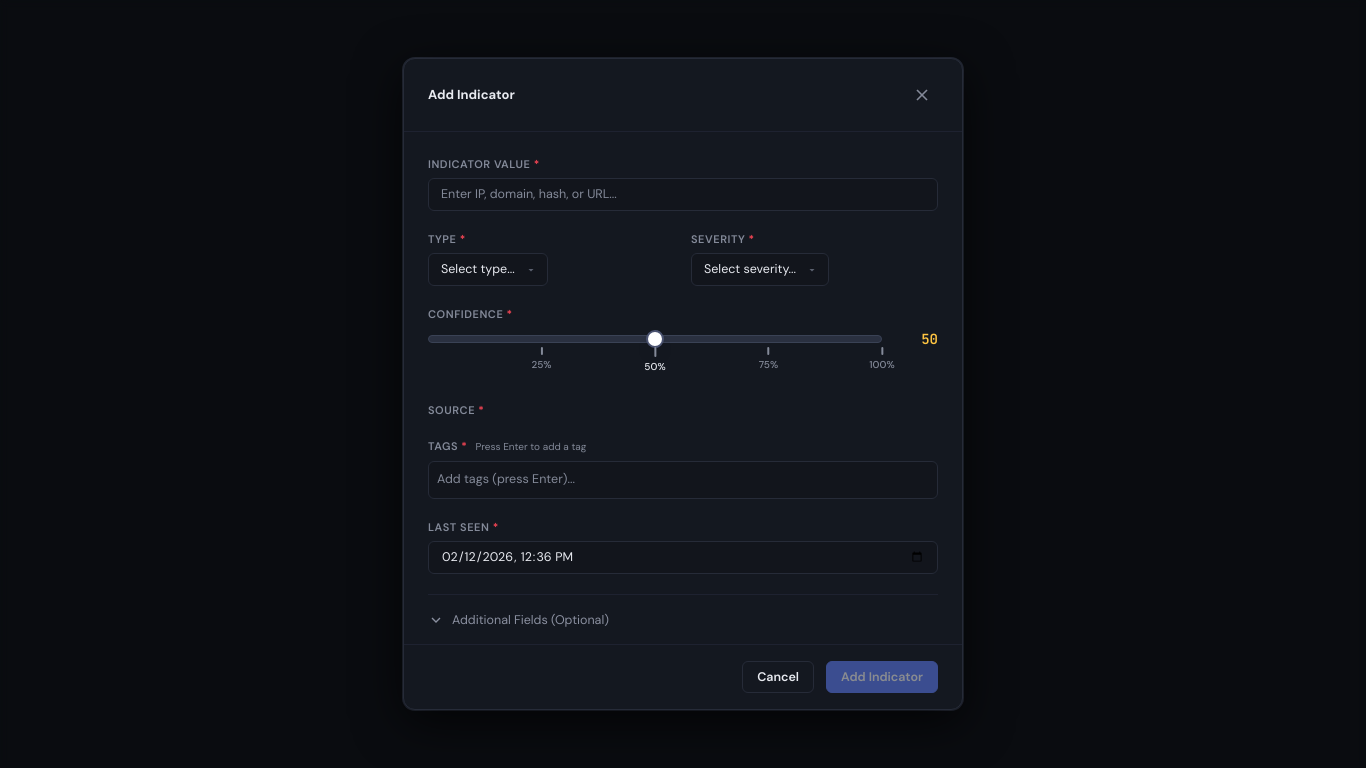
it: AddIndicatorModal › auto-detects hash type
SHA-256 hash
In the field with placeholder "Enter IP, domain, hash, or URL...": point(683, 194) [428,178,938,211], type "a3f8b2c1d4e5f6a7b8c9d0e1f2a3b4c5d6e7f8a9b0c1d2e3f4a5b6c7d8e9f0a1"
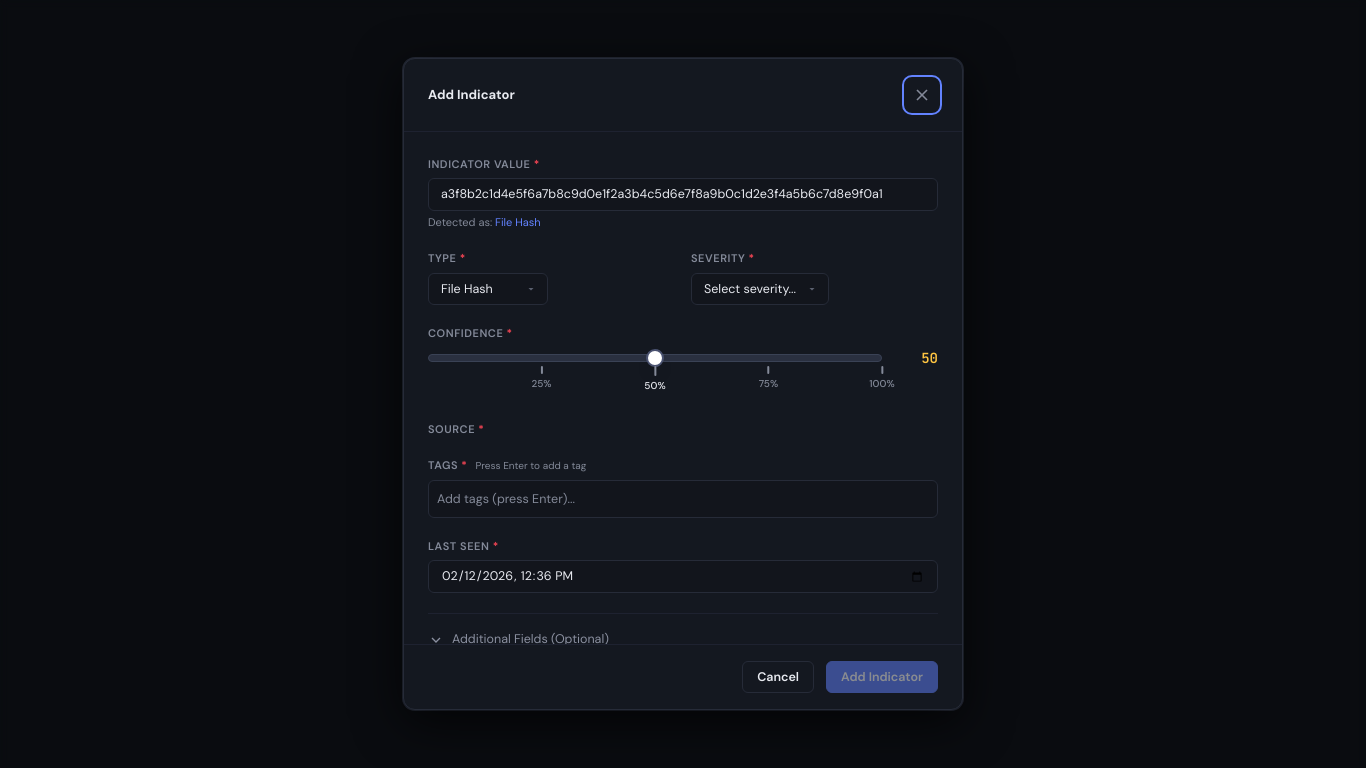
Now the dropdown below "Type" shows "File Hash", box [428,273,548,306]
